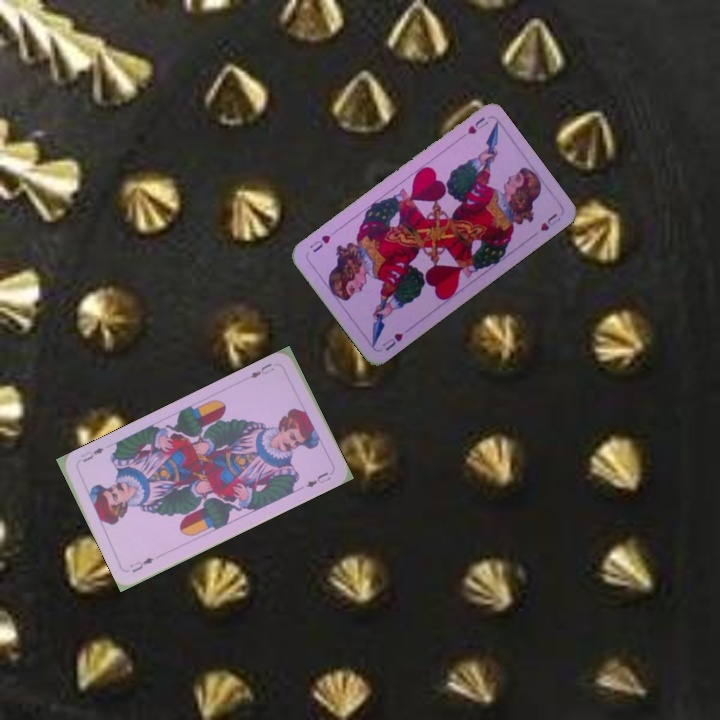EU: (125, 553, 156, 575), (246, 359, 276, 381)
HU: (378, 329, 406, 353), (463, 113, 491, 137)
